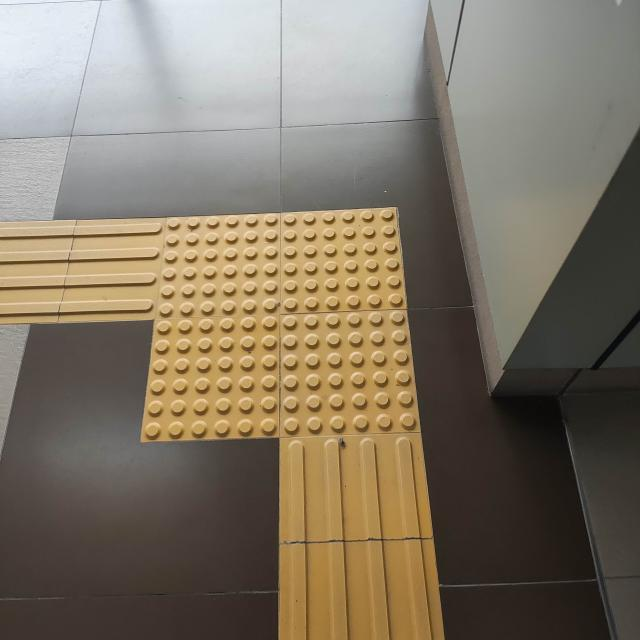kiri: (0, 159, 511, 567)
